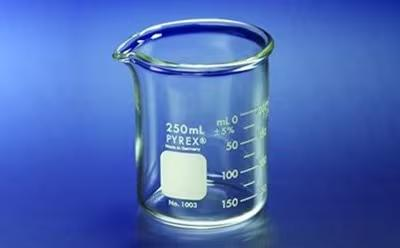Beaker: (113, 23, 277, 232)
